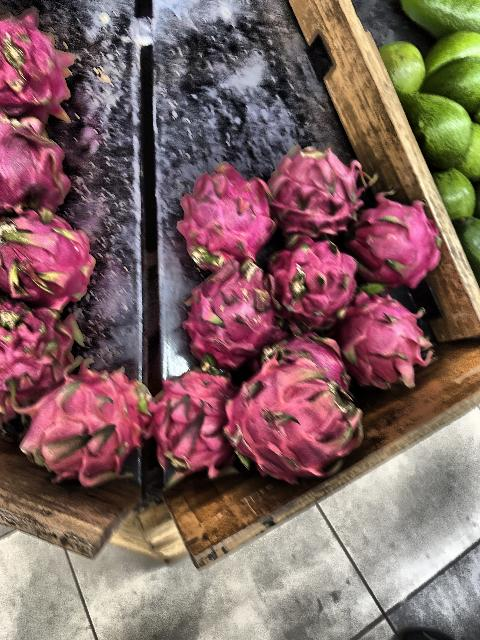buah-naga-matang: (230, 348, 368, 498), (6, 363, 146, 485), (154, 360, 234, 500), (183, 258, 285, 366), (338, 289, 436, 389), (354, 196, 446, 300), (1, 209, 96, 309), (0, 9, 80, 127), (180, 158, 274, 258), (268, 141, 358, 233), (271, 235, 359, 323), (0, 299, 72, 399), (1, 115, 61, 219), (274, 332, 364, 400)
